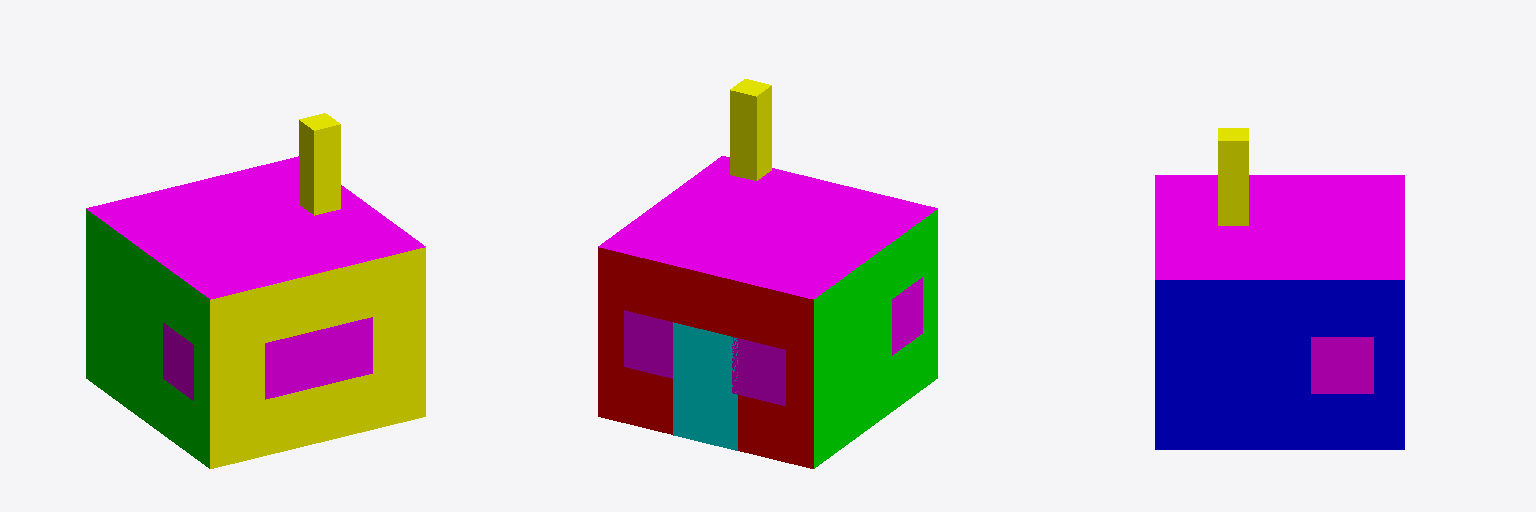
The model's file is house.obj.
3 views of the same model, side by side, from view 1: azimuth 30°, elevation 25°; view 2: azimuth 150°, elevation 25°; view 3: azimuth 270°, elevation 25° (orthographic).
Size of the model in its own units: 4.02 by 5 by 4.02.